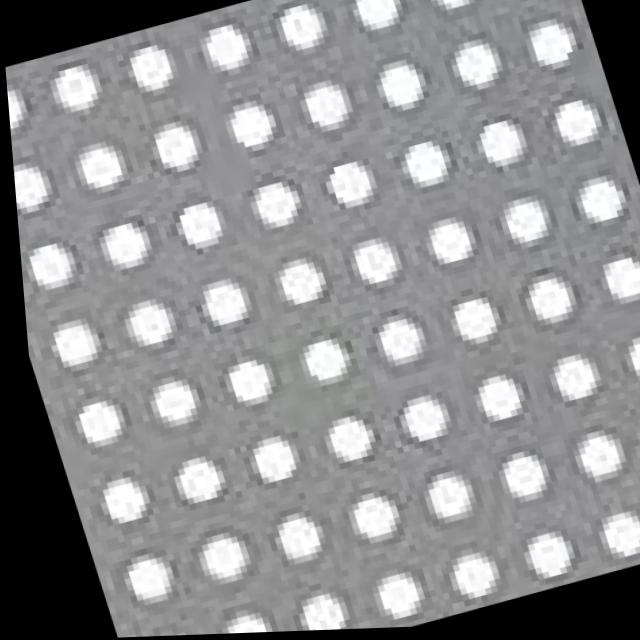metal-plates: (5, 1, 640, 639)
